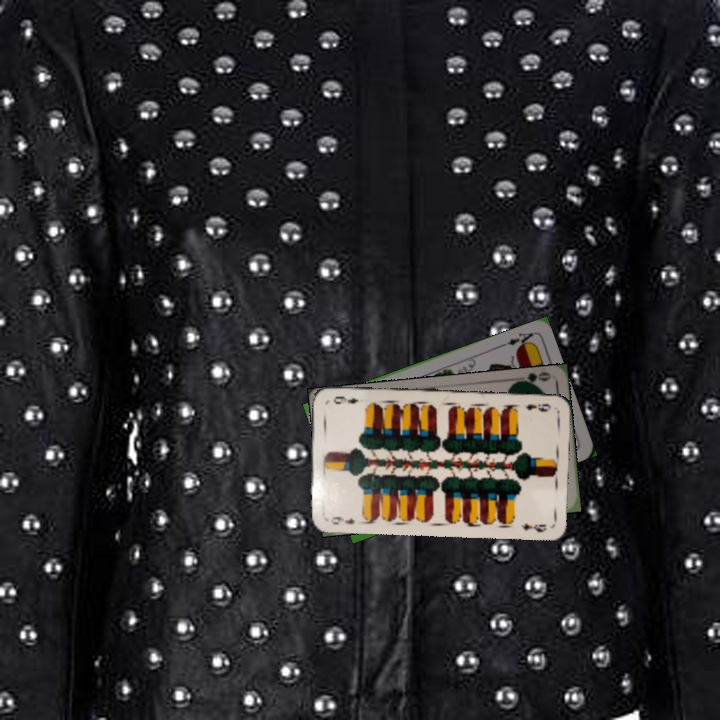E9: (522, 400, 553, 414), (327, 513, 356, 527)
EA: (497, 328, 536, 351)
GO: (512, 369, 552, 390)
